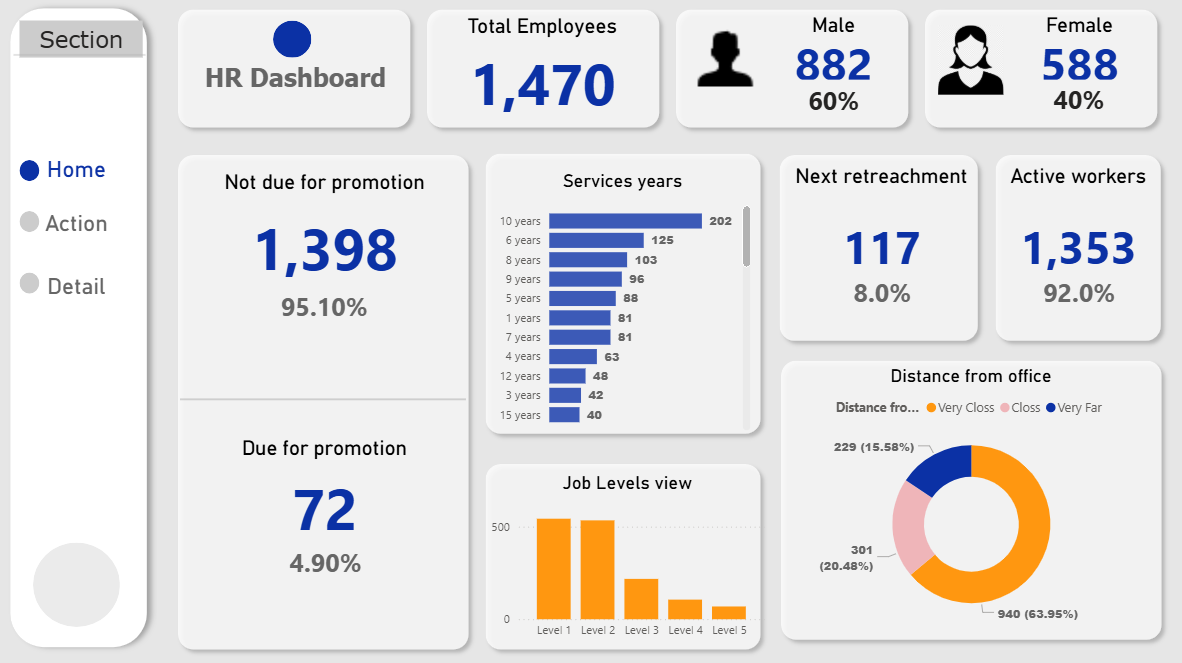

The dashboard page shown, as its layout file describes it:
{"tool":"powerbi","page":{"name":"Home","canvas":[1280,720],"ordinal":0},"visuals":[{"type":"shape","box":[16.5,9.6,166.5,699.2],"z":0},{"type":"shape","box":[195.4,12.4,264.3,143.1],"z":1000},{"type":"shape","box":[459.7,12.4,264.3,143.1],"z":2000},{"type":"shape","box":[724,12.4,264.3,143.1],"z":3000},{"type":"shape","box":[988.2,12.4,264.3,143.1],"z":4000},{"type":"shape","box":[195.4,166.5,326.2,542.3],"z":5000},{"type":"shape","box":[521.6,166.2,309.7,315.2],"z":6000},{"type":"shape","box":[521.6,494.1,309.7,214.7],"z":7000},{"type":"shape","box":[834.8,384.2,421.6,314.1],"z":8000},{"type":"shape","box":[833.6,166.7,228.3,215],"z":9000},{"type":"shape","box":[1063.1,166.7,193.3,215],"z":10000},{"type":"textbox","box":[209.7,71.2,238.7,51.4],"z":11000},{"type":"textbox","box":[36.5,32.7,130.9,39],"z":12000},{"type":"shape","box":[305.9,33,40.9,39.6],"z":14000},{"type":"card","title":"Total Employees","fields":{"Values":["All Measures.Total Emp"]},"box":[468,27.5,246.4,112.9],"z":15000},{"type":"card","title":"Male","fields":{"Values":["All Measures.Male"]},"box":[814.8,26.2,170.7,75.7],"z":16000},{"type":"card","fields":{"Values":["All Measures.Male %"]},"box":[834.1,90.8,132.1,55.1],"z":17000},{"type":"card","title":"Female","fields":{"Values":["All Measures.Female"]},"box":[1068.7,26.2,183.1,75.7],"z":18000},{"type":"card","fields":{"Values":["All Measures.Female %"]},"box":[1083.9,90.8,152.8,53.7],"z":19000},{"type":"image","box":[736.3,26.2,95,90.8],"z":20000},{"type":"actionButton","title":"Home","box":[27.8,176.4,140.1,30.2],"z":21000},{"type":"image","box":[1004.7,33,79.8,84],"z":22000},{"type":"actionButton","title":"Action","box":[27.7,233.4,139.8,56.7],"z":23000},{"type":"card","title":"Active workers","fields":{"Values":["All Measures.On service"]},"box":[1058.3,186,203,142.6],"z":24000},{"type":"actionButton","title":"Detail","box":[27.7,300.7,139.8,58],"z":25000},{"type":"card","fields":{"Values":["All Measures.% Active workers"]},"box":[1082.4,296,153.4,53.2],"z":26000},{"type":"card","title":"Next retreachment","fields":{"Values":["All Measures.Due for retirment"]},"box":[843.2,186,215,142.6],"z":27000},{"type":"card","fields":{"Values":["All Measures.%Due for retirment"]},"box":[865,296,171.5,53.2],"z":28000},{"type":"columnChart","title":"Job Levels view","fields":{"Category":["HR Analytics Data.Job Level"],"Y":["All Measures.Total Emp"]},"box":[531.3,512,300,185.8],"z":29000},{"type":"barChart","title":"Services years","fields":{"Category":["HR Analytics Data.Total working Years"],"Y":["All Measures.Total Emp"]},"box":[536.4,192.1,280.3,280.3],"z":30000},{"type":"donutChart","title":"Distance from office","fields":{"Category":["HR Analytics Data.Distance from office"],"Y":["All Measures.Total Emp"]},"box":[840.8,399.9,408.3,282.7],"z":31000},{"type":"card","title":"Not due for promotion","fields":{"Values":["All Measures.Not Due"]},"box":[207.8,192.1,303.2,130.5],"z":32000},{"type":"card","title":"Due for promotion","fields":{"Values":["All Measures.Due for promotion"]},"box":[209,473.8,303.2,119.6],"z":33000},{"type":"shape","box":[206.6,427.7,303.2,14.5],"z":34000},{"type":"card","fields":{"Values":["All Measures.% Not due for promotion"]},"box":[283.5,309.7,152.8,53.7],"z":35000},{"type":"card","fields":{"Values":["All Measures.% Due for promotion"]},"box":[285.1,582.5,152.2,53.2],"z":36000},{"type":"shape","box":[36.9,180.7,21.1,22.4],"z":37000},{"type":"shape","box":[36.9,236,21.1,22.4],"z":38000},{"type":"shape","box":[36.9,300.7,21.1,22.4],"z":39000},{"type":"shape","box":[51.4,586.8,92.3,89.7],"z":40000},{"type":"shape","box":[30.2,61.6,140.1,15.7],"z":41000}]}

Visuals, with their boxes in screenshot pixels (x1, y1, x2, y2), scaled from the page's 1280x720 canvas onto the 1182x663 screenshot:
shape: bbox=(15, 9, 169, 653)
shape: bbox=(180, 11, 425, 143)
shape: bbox=(425, 11, 669, 143)
shape: bbox=(669, 11, 913, 143)
shape: bbox=(913, 11, 1157, 143)
shape: bbox=(180, 153, 482, 653)
shape: bbox=(482, 153, 768, 443)
shape: bbox=(482, 455, 768, 653)
shape: bbox=(771, 354, 1160, 643)
shape: bbox=(770, 154, 981, 351)
shape: bbox=(982, 154, 1160, 351)
textbox: bbox=(194, 66, 414, 113)
textbox: bbox=(34, 30, 155, 66)
shape: bbox=(282, 30, 320, 67)
"Total Employees" card: bbox=(432, 25, 660, 129)
"Male" card: bbox=(752, 24, 910, 94)
card - All Measures.Male %: bbox=(770, 84, 892, 134)
"Female" card: bbox=(987, 24, 1156, 94)
card - All Measures.Female %: bbox=(1001, 84, 1142, 133)
image: bbox=(680, 24, 768, 108)
"Home" actionButton: bbox=(26, 162, 155, 190)
image: bbox=(928, 30, 1001, 108)
"Action" actionButton: bbox=(26, 215, 155, 267)
"Active workers" card: bbox=(977, 171, 1165, 303)
"Detail" actionButton: bbox=(26, 277, 155, 330)
card - All Measures.% Active workers: bbox=(1000, 273, 1141, 322)
"Next retreachment" card: bbox=(779, 171, 977, 303)
card - All Measures.%Due for retirment: bbox=(799, 273, 957, 322)
"Job Levels view" columnChart: bbox=(491, 471, 768, 643)
"Services years" barChart: bbox=(495, 177, 754, 435)
"Distance from office" donutChart: bbox=(776, 368, 1153, 629)
"Not due for promotion" card: bbox=(192, 177, 472, 297)
"Due for promotion" card: bbox=(193, 436, 473, 546)
shape: bbox=(191, 394, 471, 407)
card - All Measures.% Not due for promotion: bbox=(262, 285, 403, 335)
card - All Measures.% Due for promotion: bbox=(263, 536, 404, 585)
shape: bbox=(34, 166, 54, 187)
shape: bbox=(34, 217, 54, 238)
shape: bbox=(34, 277, 54, 298)
shape: bbox=(47, 540, 133, 623)
shape: bbox=(28, 57, 157, 71)
